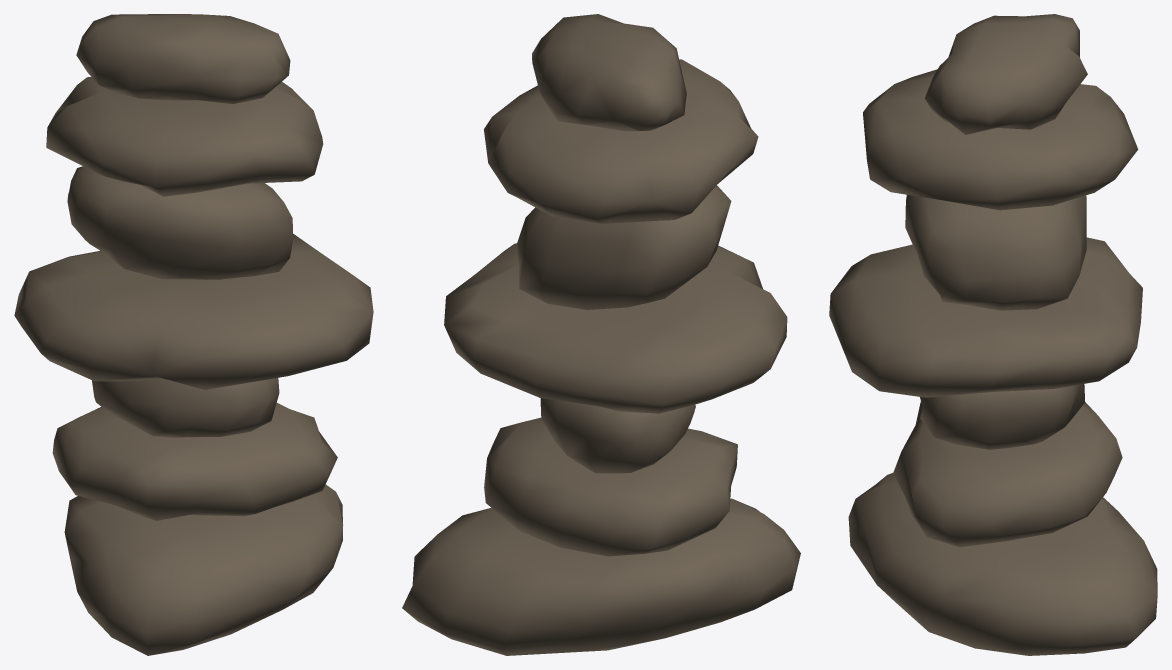
Rendered from StoneStack.FBX.
The picture shows the model from 3 angles, left to right: view 1: azimuth 30°, elevation 25°; view 2: azimuth 150°, elevation 25°; view 3: azimuth 270°, elevation 25°; orthographic projection. The views are drawn at different scales.
Visible parts, largest first — view 1: stack_stone_04, stack_stone_01, stack_stone_06, stack_stone_02, stack_stone_05, stack_stone_07, stack_stone_03; view 2: stack_stone_01, stack_stone_04, stack_stone_06, stack_stone_02, stack_stone_05, stack_stone_07, stack_stone_03; view 3: stack_stone_01, stack_stone_04, stack_stone_06, stack_stone_02, stack_stone_05, stack_stone_07, stack_stone_03.
Boxes of the visible parts, x1,y1,x2,y2 form: stack_stone_04: (14,233,373,389); stack_stone_01: (64,484,343,655); stack_stone_06: (46,76,323,196); stack_stone_02: (52,403,337,520); stack_stone_05: (67,166,293,279); stack_stone_07: (76,14,290,103); stack_stone_03: (92,378,279,437); stack_stone_01: (402,498,800,655); stack_stone_04: (444,243,787,413); stack_stone_06: (484,59,758,223); stack_stone_02: (484,417,737,556); stack_stone_05: (517,185,731,309); stack_stone_07: (532,14,686,131); stack_stone_03: (540,398,695,473); stack_stone_01: (848,473,1157,655); stack_stone_04: (829,237,1142,397); stack_stone_06: (863,69,1138,210); stack_stone_02: (893,402,1122,547); stack_stone_05: (905,194,1086,310); stack_stone_07: (925,14,1087,134); stack_stone_03: (920,384,1084,449).
Size of the model in its own units: 1.78 by 3.2 by 1.66.
1 material, 1 textured.
